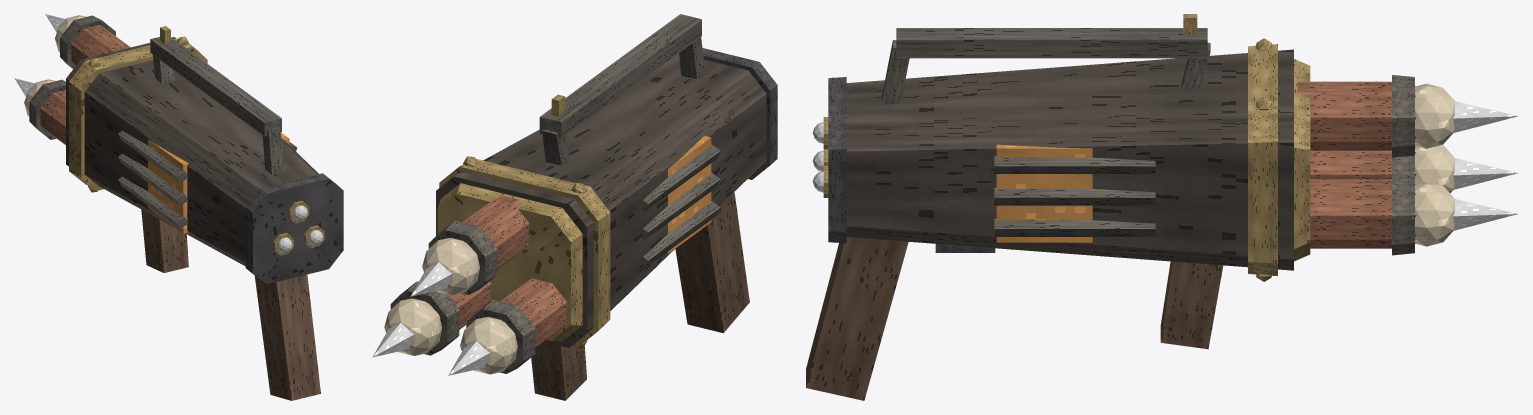
Rendered from weapon_cinderbox.gltf.
3 views of the same model, side by side, from view 1: azimuth 30°, elevation 25°; view 2: azimuth 150°, elevation 25°; view 3: azimuth 270°, elevation 25° (orthographic). The views are drawn at different scales.
Parts seen in each view (by area): view 1: body, cinders, flare_1, flare_0; view 2: body, flare_2, flare_1, flare_0, cinders; view 3: body, cinders, flare_0, flare_2, flare_1.
Part boxes in pixels (x1=…): body: x1=29, y1=15, x2=343, y2=400; cinders: x1=148, y1=133, x2=289, y2=233; flare_1: x1=14, y1=78, x2=55, y2=116; flare_0: x1=45, y1=14, x2=86, y2=52; body: x1=390, y1=14, x2=777, y2=400; flare_2: x1=372, y1=298, x2=441, y2=357; flare_1: x1=448, y1=317, x2=517, y2=375; flare_0: x1=410, y1=238, x2=479, y2=296; cinders: x1=668, y1=135, x2=711, y2=253; body: x1=806, y1=14, x2=1416, y2=400; cinders: x1=996, y1=144, x2=1092, y2=242; flare_0: x1=1415, y1=83, x2=1518, y2=148; flare_2: x1=1415, y1=181, x2=1517, y2=246; flare_1: x1=1415, y1=144, x2=1518, y2=193.
Bounding box in the file's own units: 0.1762 × 0.3592 × 0.6183.
Materials: 9 (9 with a texture image).
